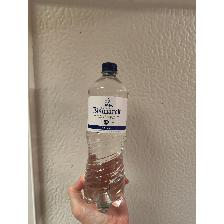Wasser: (82, 60, 130, 214)
